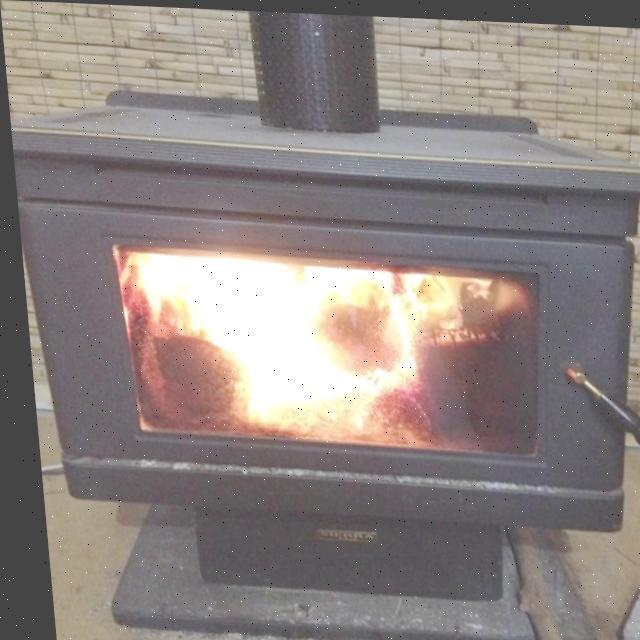Fire: (110, 238, 528, 451)
